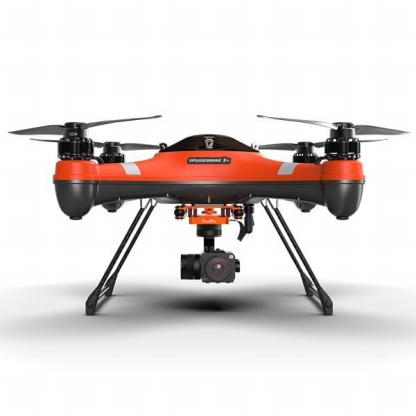drone: (9, 110, 411, 241)
